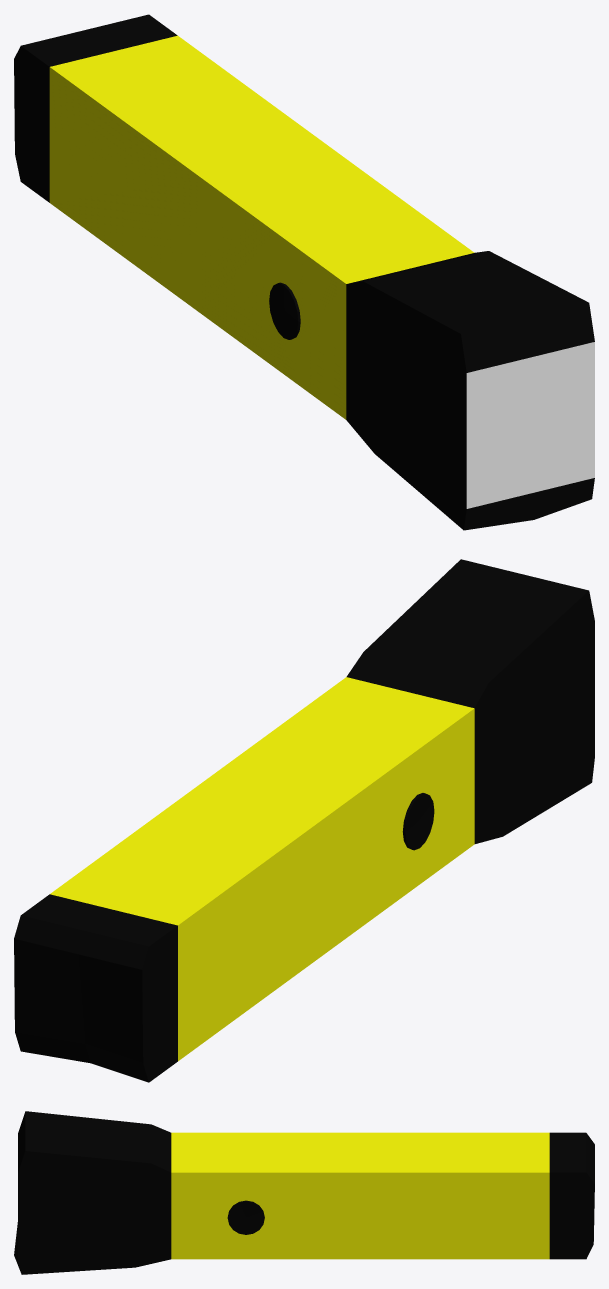
Rendered from flashlight.fbx.
3 views of the same model, one above another, from view 1: azimuth 30°, elevation 25°; view 2: azimuth 150°, elevation 25°; view 3: azimuth 270°, elevation 25° (orthographic). The views are drawn at different scales.
Parts seen in each view (by area): view 1: Cube; view 2: Cube; view 3: Cube.
Boxes of the visible parts, left/top/right/bottom form: Cube: left=14, top=14, right=594, bottom=530; Cube: left=14, top=559, right=594, bottom=1082; Cube: left=14, top=1111, right=594, bottom=1274.
Size of the model in its own units: 84.98 by 116 by 493.
